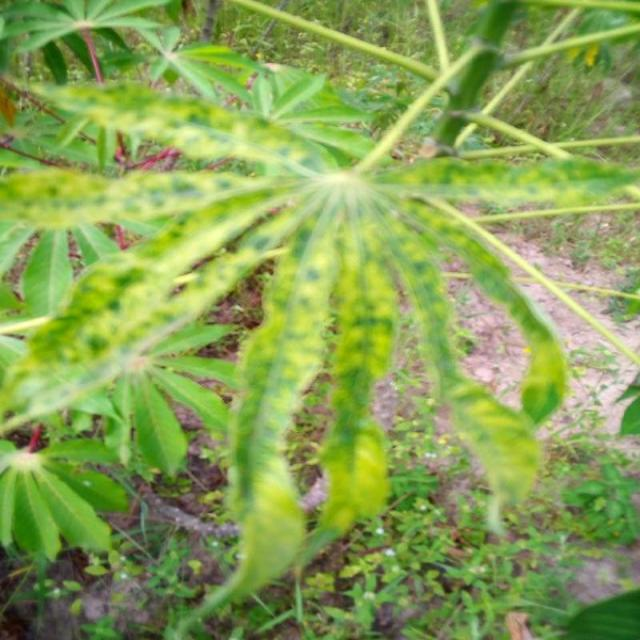cassava leaf: (0, 9, 639, 616)
